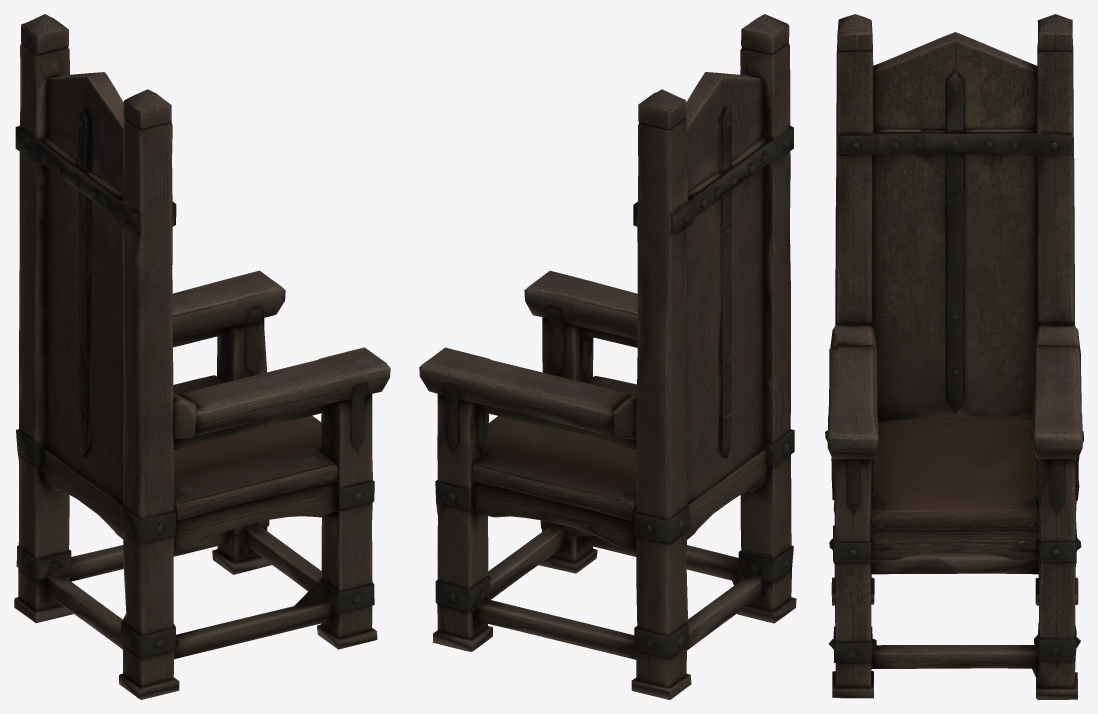
File: high-backed-chair.glb
3 views of the same model, side by side, from view 1: azimuth 30°, elevation 25°; view 2: azimuth 150°, elevation 25°; view 3: azimuth 270°, elevation 25° (orthographic). The views are drawn at different scales.
Visible parts, largest first — view 1: tripo_node_9832a5d8-680a-4f43-b631-c09e0c701adc; view 2: tripo_node_9832a5d8-680a-4f43-b631-c09e0c701adc; view 3: tripo_node_9832a5d8-680a-4f43-b631-c09e0c701adc.
Part boxes in pixels (x1,y1,x2,y2): tripo_node_9832a5d8-680a-4f43-b631-c09e0c701adc: (14, 14, 390, 699); tripo_node_9832a5d8-680a-4f43-b631-c09e0c701adc: (419, 14, 796, 699); tripo_node_9832a5d8-680a-4f43-b631-c09e0c701adc: (825, 14, 1083, 699).
Size of the model in its own units: 0.4479 by 1 by 0.4026.
1 material, 1 textured.
